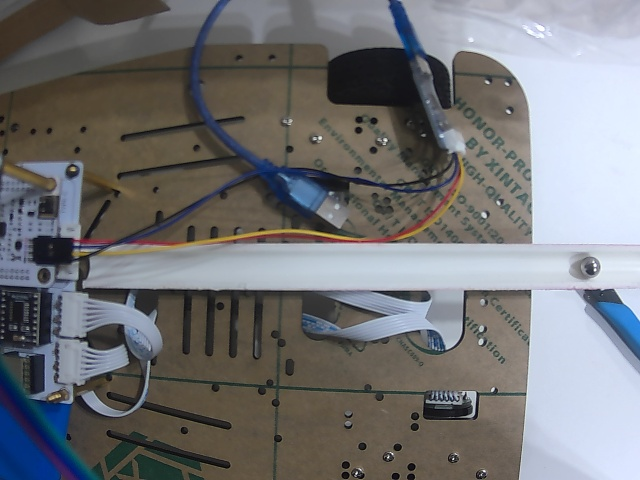steelball: (578, 255, 601, 278)
